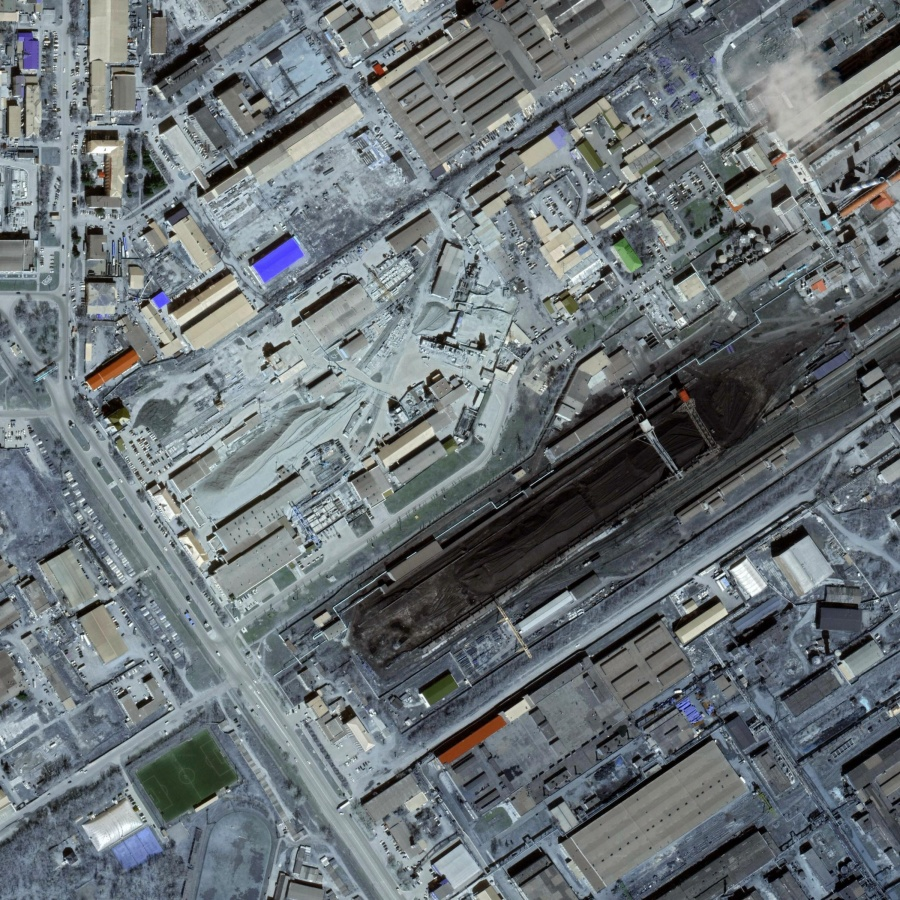PowerPlant: (326, 313, 798, 683)
